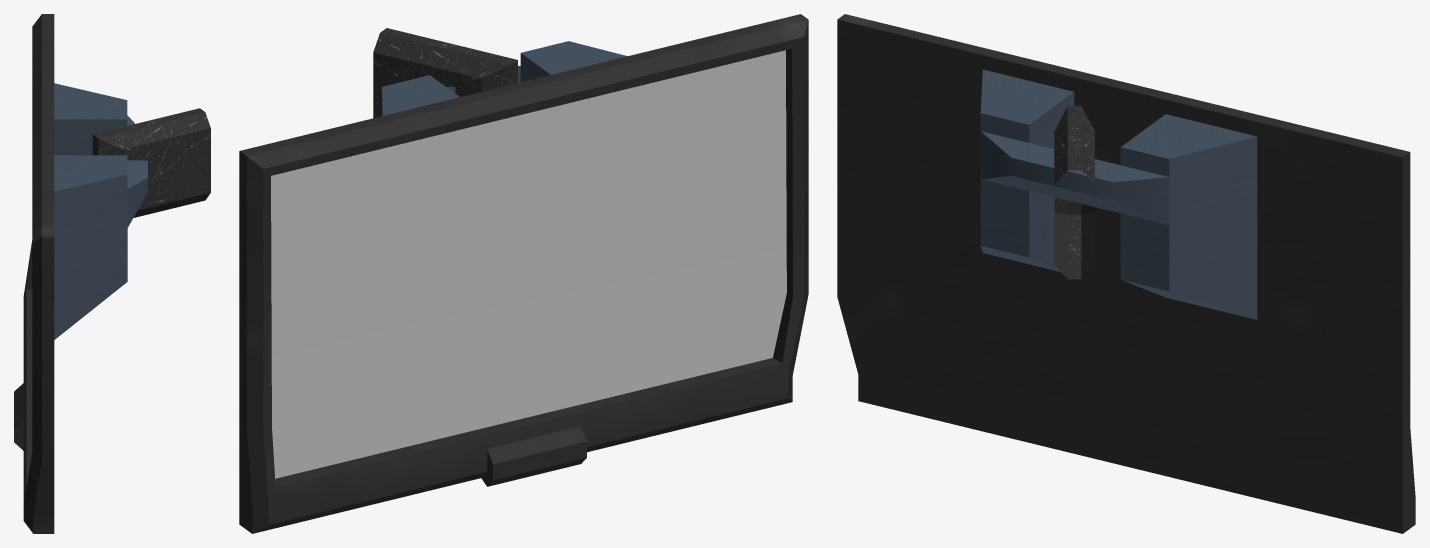
Rendered from Monitor1.fbx.
The picture shows the model from 3 angles, left to right: view 1: azimuth 30°, elevation 25°; view 2: azimuth 150°, elevation 25°; view 3: azimuth 270°, elevation 25°; orthographic projection. The views are drawn at different scales.
Visible parts, largest first — view 1: Monitor1; view 2: Monitor1Screen, Monitor1; view 3: Monitor1.
Boxes of the visible parts, bbox=[...] form: Monitor1: bbox=[14, 14, 210, 533]; Monitor1Screen: bbox=[271, 50, 786, 478]; Monitor1: bbox=[239, 14, 808, 533]; Monitor1: bbox=[837, 14, 1415, 533].
Bounding box in the file's own units: 98.14 × 113 × 155.
